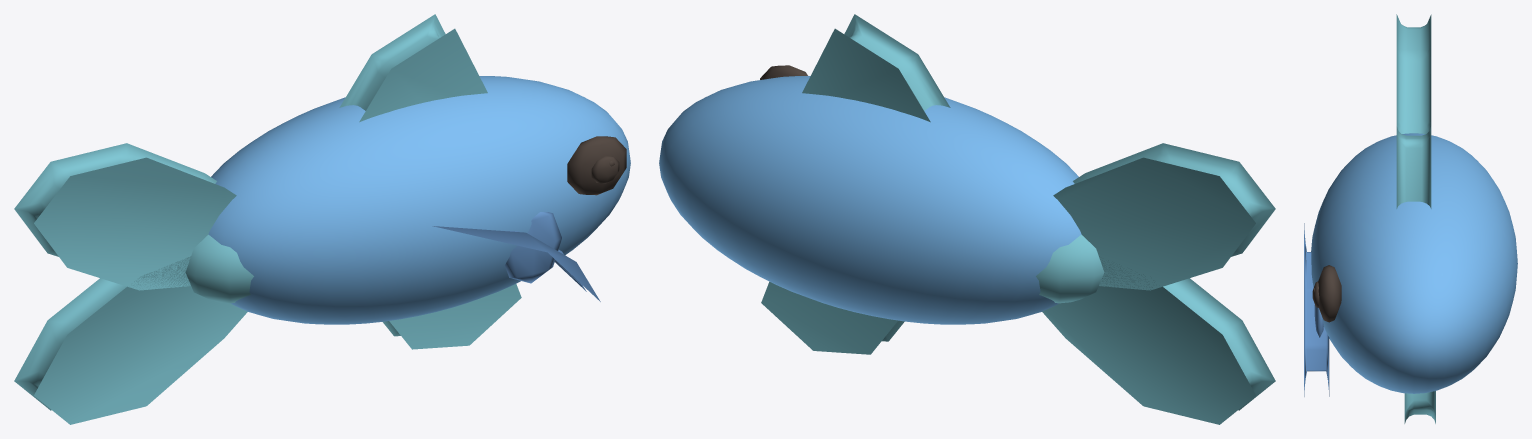
The model's file is fish.glb.
3 views of the same model, side by side, from view 1: azimuth 30°, elevation 25°; view 2: azimuth 150°, elevation 25°; view 3: azimuth 270°, elevation 25° (orthographic). The views are drawn at different scales.
Parts seen in each view (by area): view 1: fish_root; view 2: fish_root; view 3: fish_root.
Part boxes in pixels (x1=…): fish_root: x1=14, y1=14, x2=630, y2=424; fish_root: x1=659, y1=14, x2=1275, y2=424; fish_root: x1=1304, y1=14, x2=1517, y2=423.
Bounding box in the file's own units: 1.35 × 0.7 × 0.4752.
